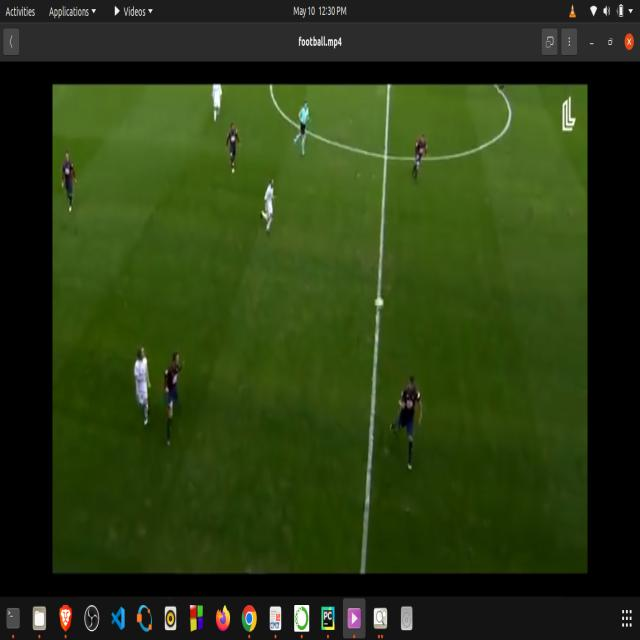Ball: (372, 288, 387, 316)
football-players: (388, 361, 425, 479), (161, 335, 188, 450), (132, 337, 157, 442), (57, 146, 87, 228), (257, 168, 280, 242), (293, 92, 313, 162), (411, 132, 431, 188), (225, 117, 243, 179), (209, 84, 226, 124)
